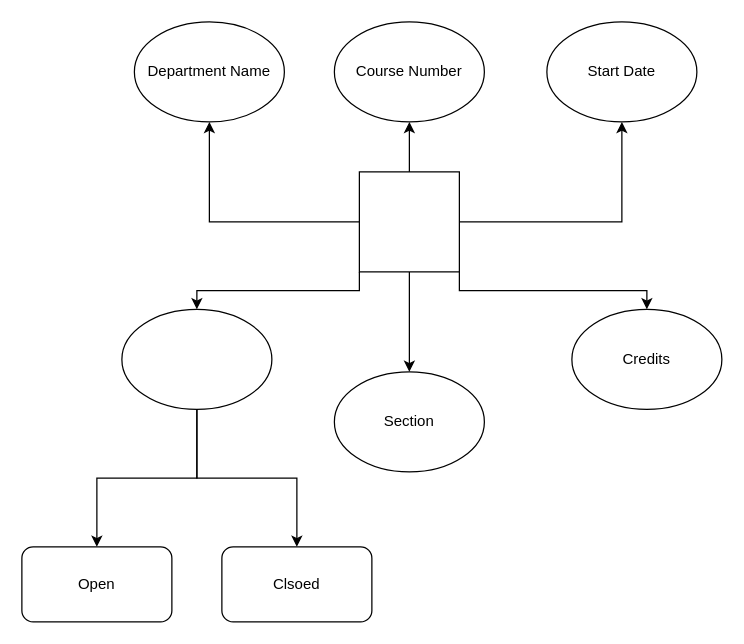
The diagram is 744 pixels wide and 644 high, and some of its shapes have lost their labels. The shapes that lost their labels are listed below. From the top down, each one's centre as x and y in pixels, then its label:
At [408,221]: "Course".
At [196,358]: "Enrollment".
